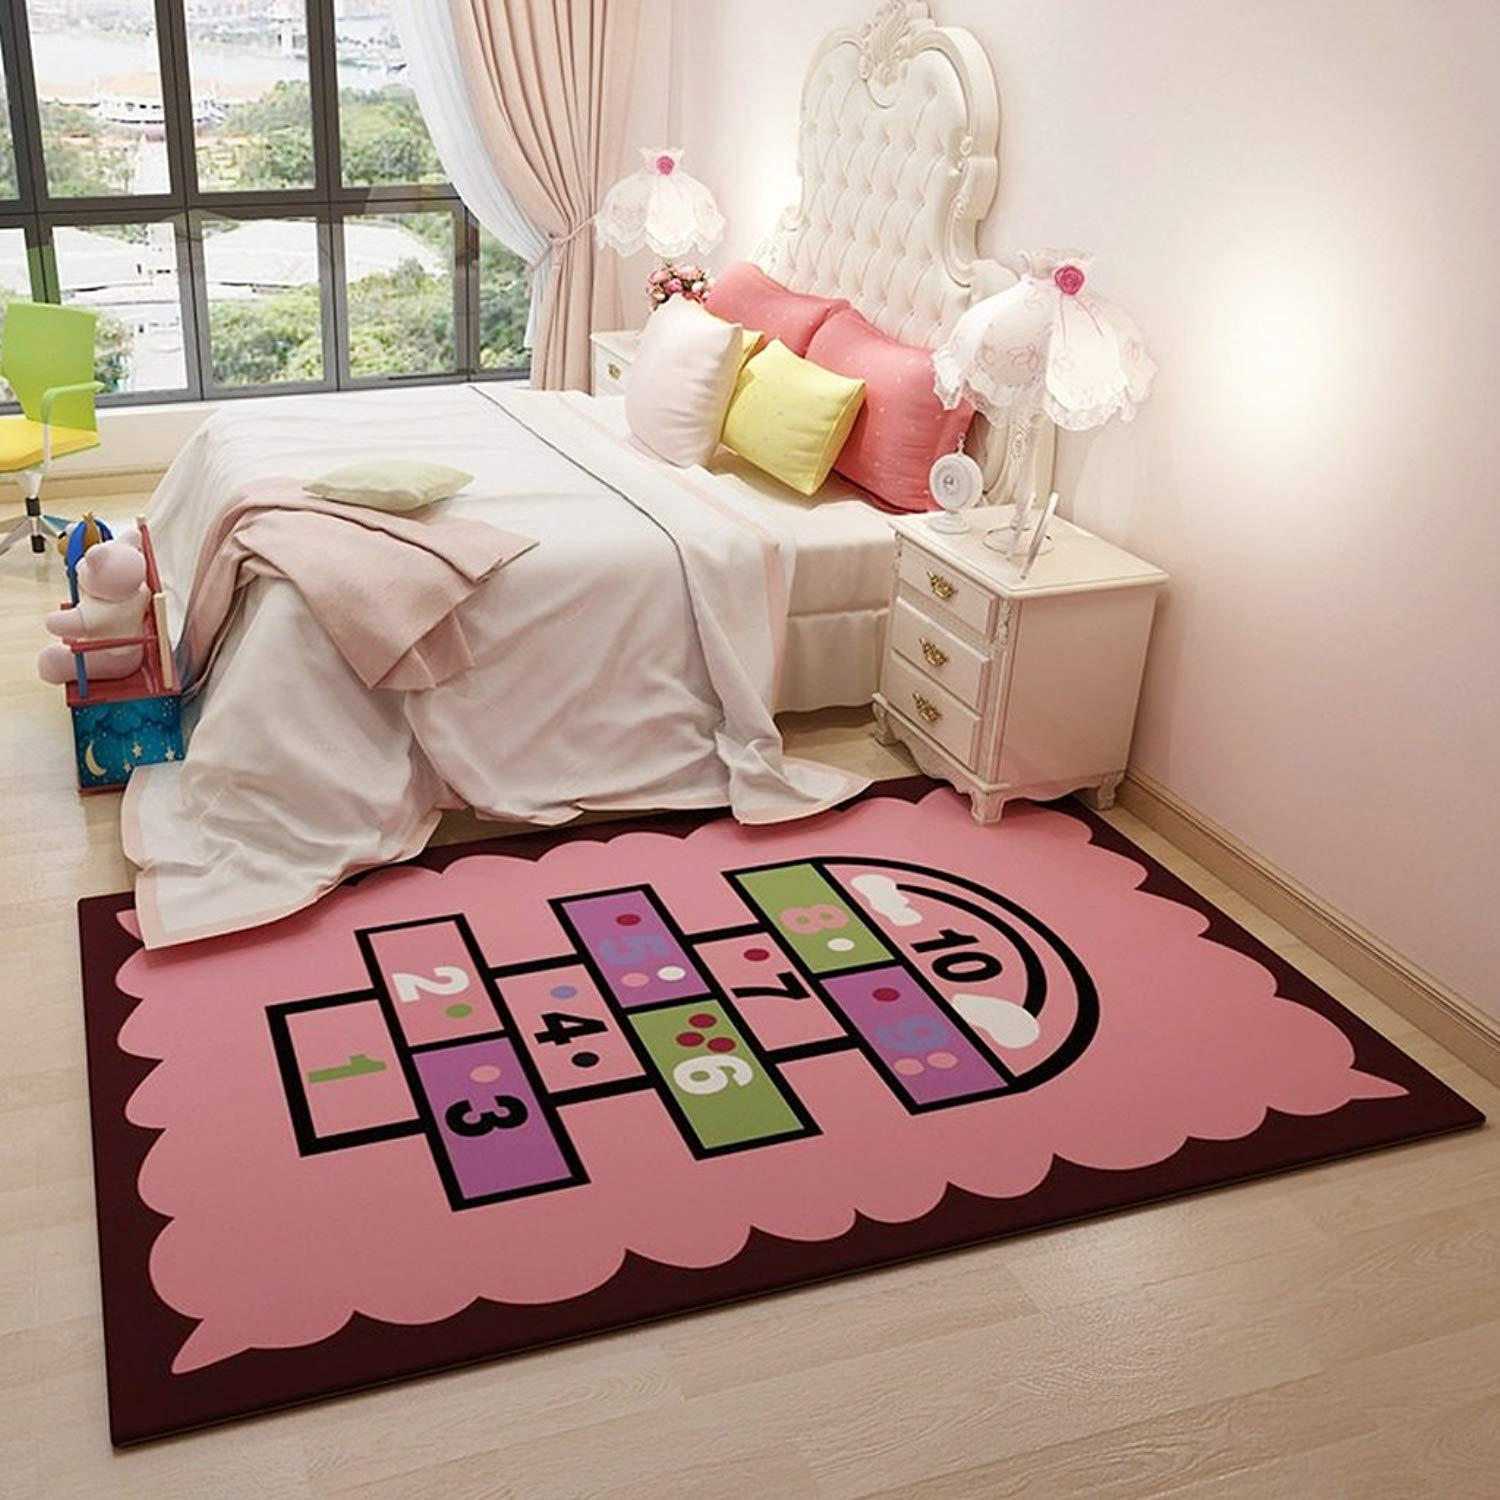bed: (93, 297, 850, 696)
